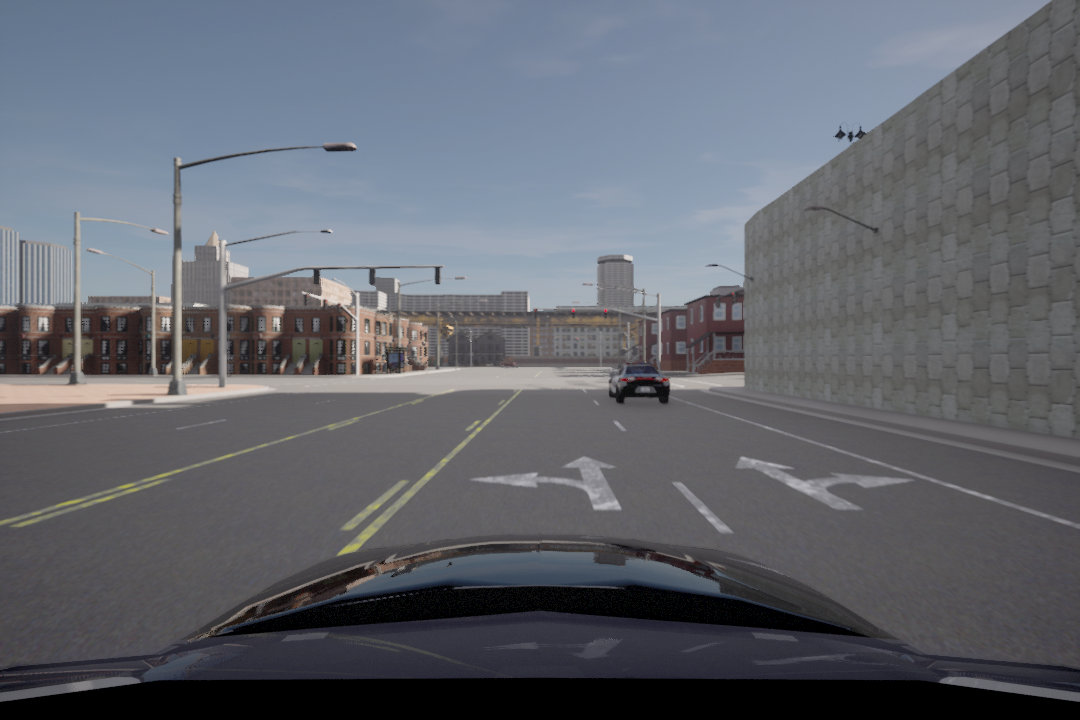RoadSign_forward_left: (467, 454, 634, 519)
RoadSign_forward_right: (723, 454, 922, 517)
